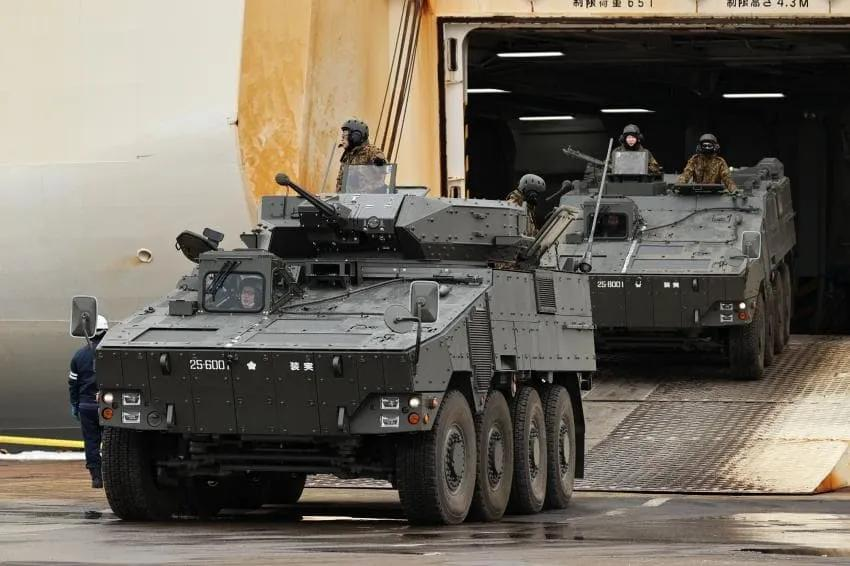MIL_IFV: (71, 115, 594, 522), (563, 125, 799, 374)
